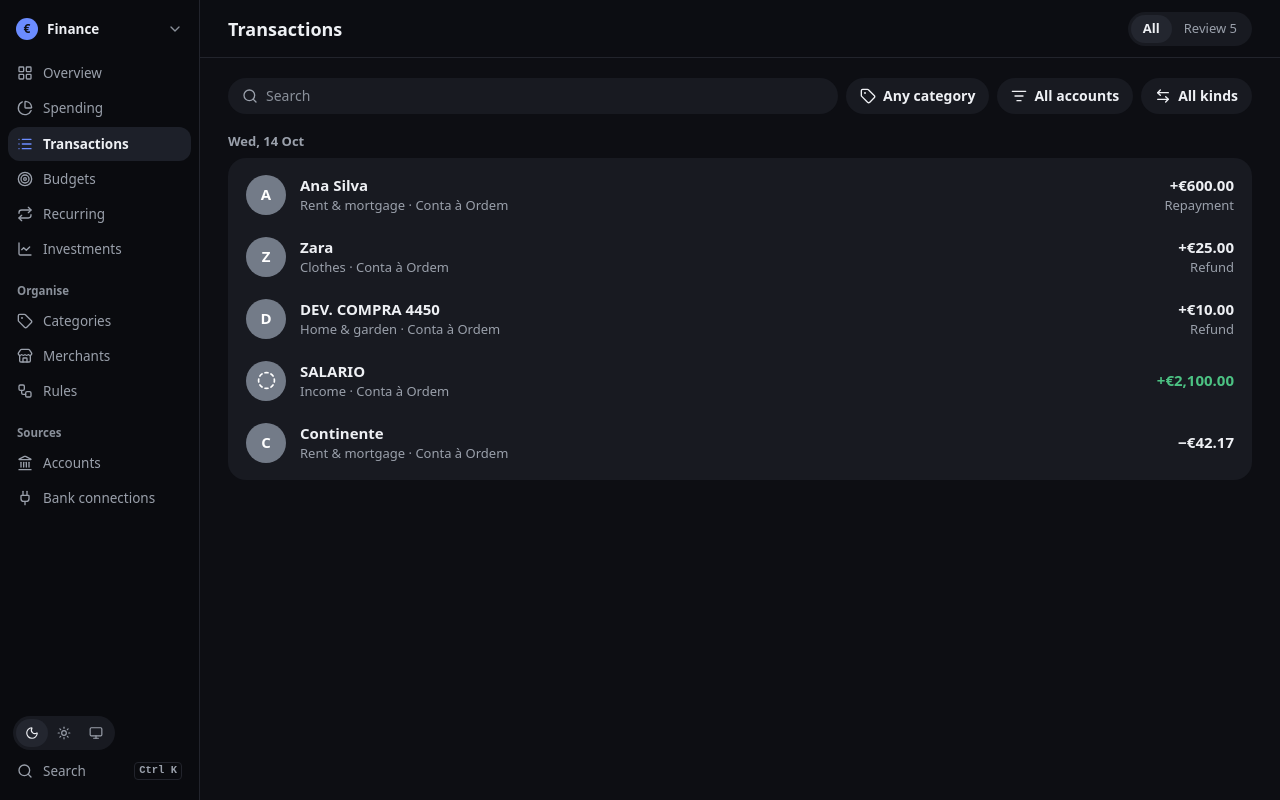
money in with an expense category is a repayment or refund, not income
Expected: the text "Repayment" is shown, left=1164, top=196, right=1234, bottom=216
Expected: the 1st text "Refund" is shown, left=1190, top=258, right=1234, bottom=276
Click the button "Ana Silva" at (266, 194), box left=234, top=164, right=1246, bottom=226
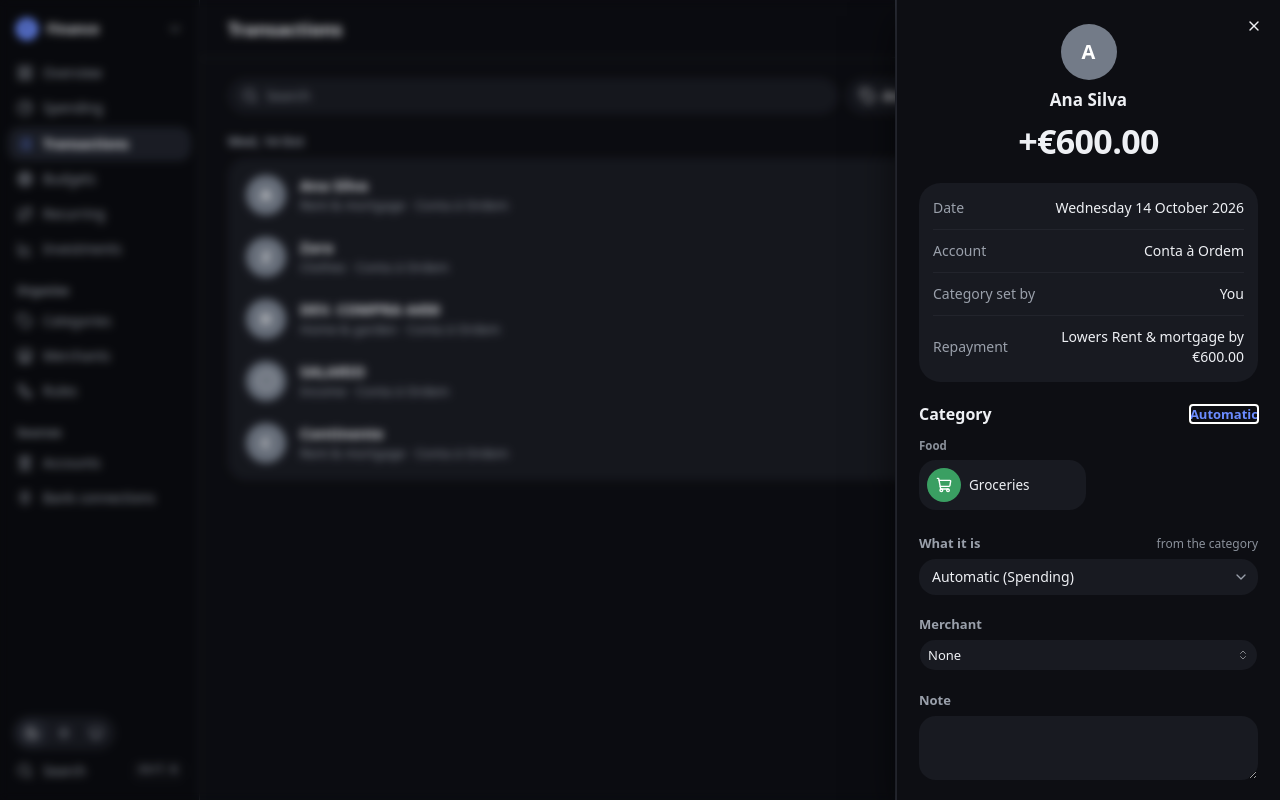
Now the text "Lowers Rent & mortgage by €600.00" is shown, box left=1061, top=327, right=1244, bottom=366
